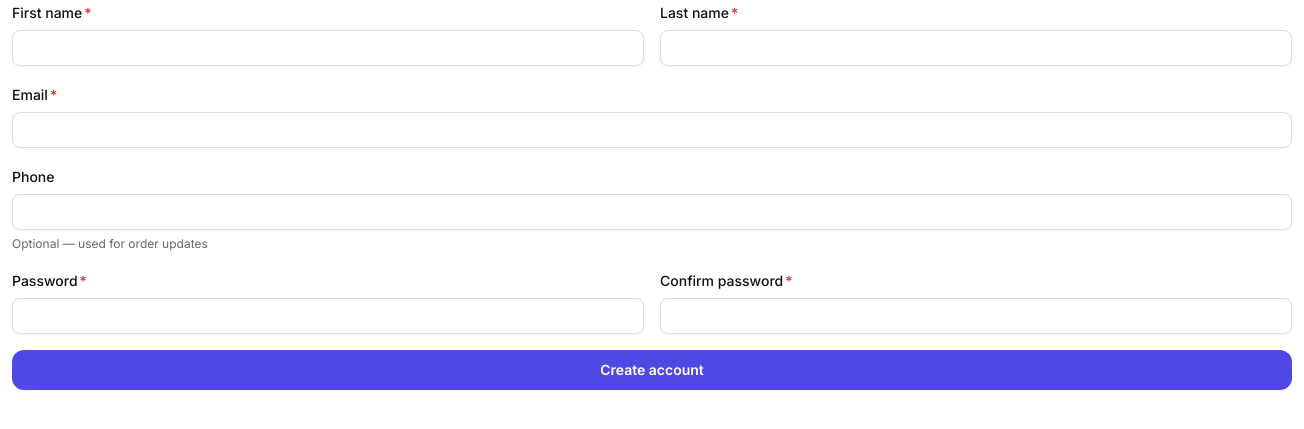
Scenario: RegisterForm › requires matching passwords
This screenshot has width=1304, height=429.
In the field labelled "First name*": coordinates (328, 48) [12, 30, 644, 66], type "Jane"
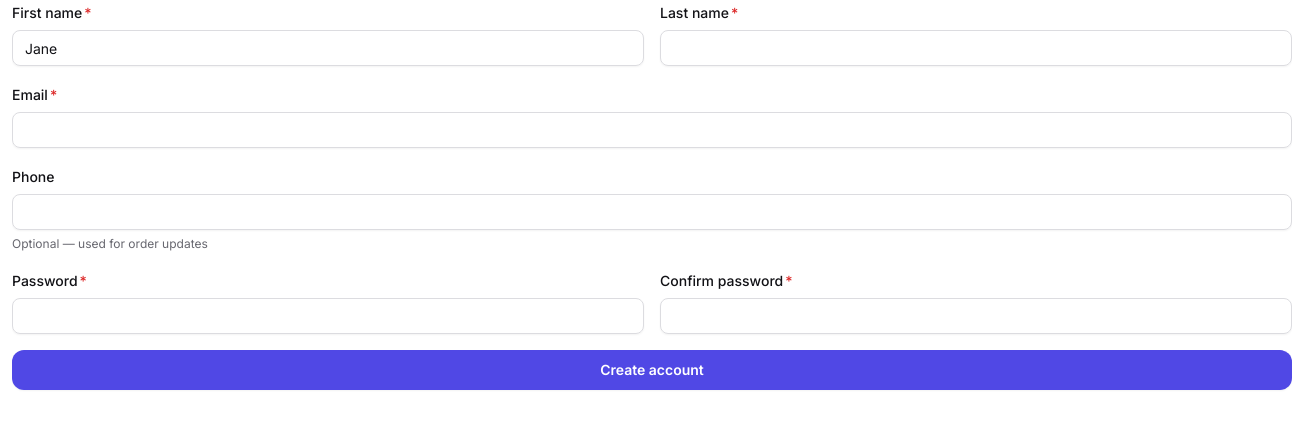
In the field labelled "Last name*": coordinates (976, 48) [660, 30, 1292, 66], type "Doe"
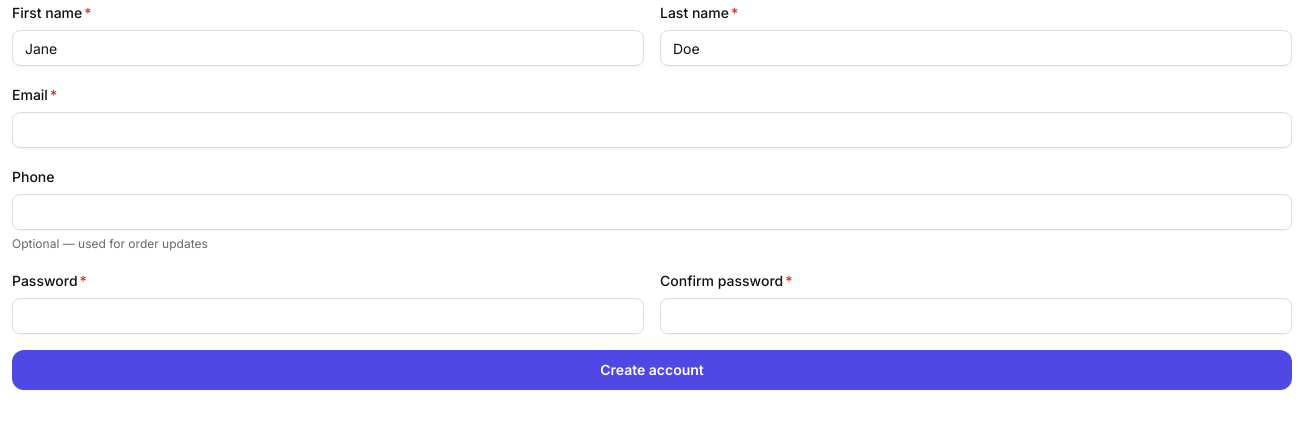
In the field labelled "Email*": coordinates (652, 130) [12, 112, 1292, 148], type "jane@example.com"
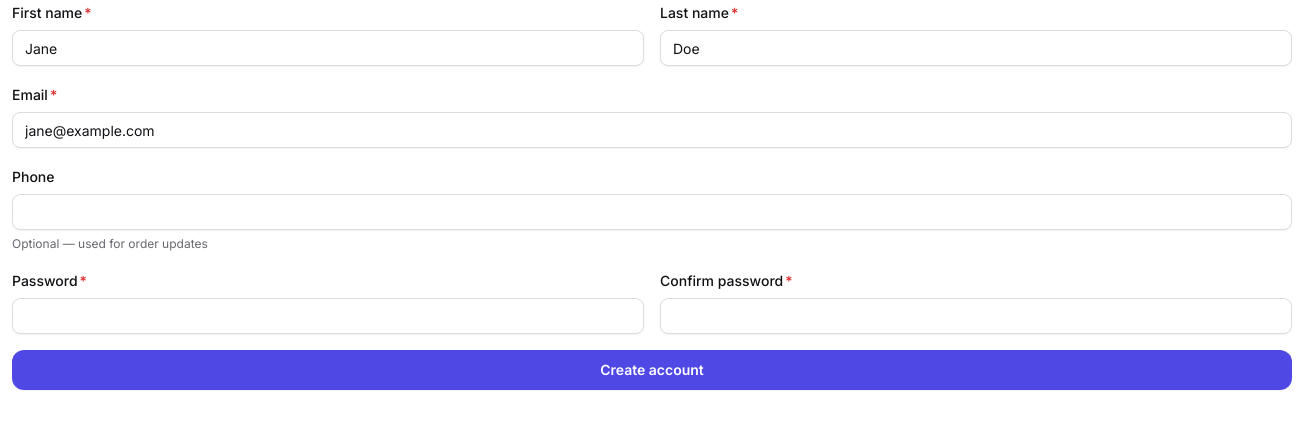
In the password field labelled "Password*": coordinates (328, 316) [12, 298, 644, 334], type "secret123"
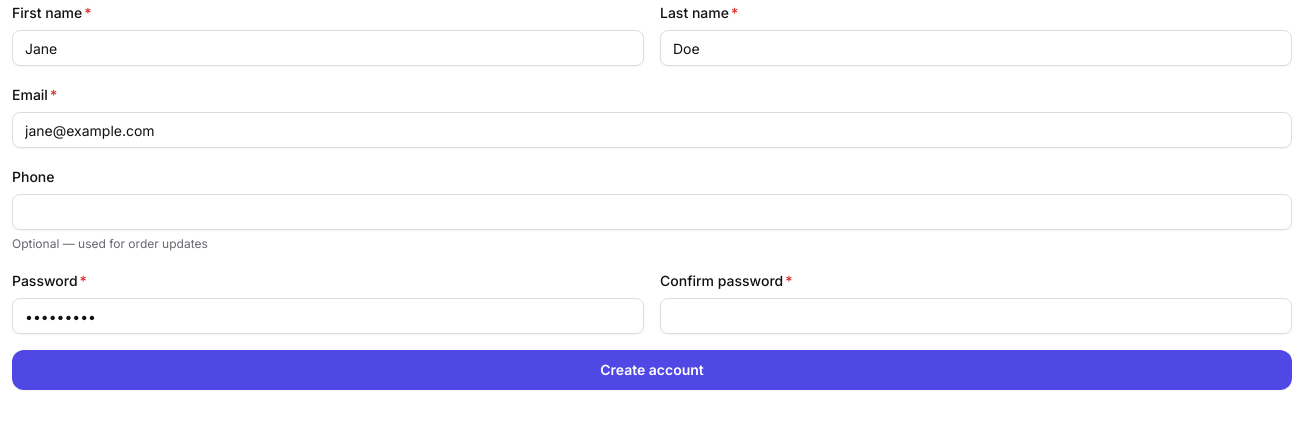
In the password field labelled "Confirm password*": coordinates (976, 316) [660, 298, 1292, 334], type "different"
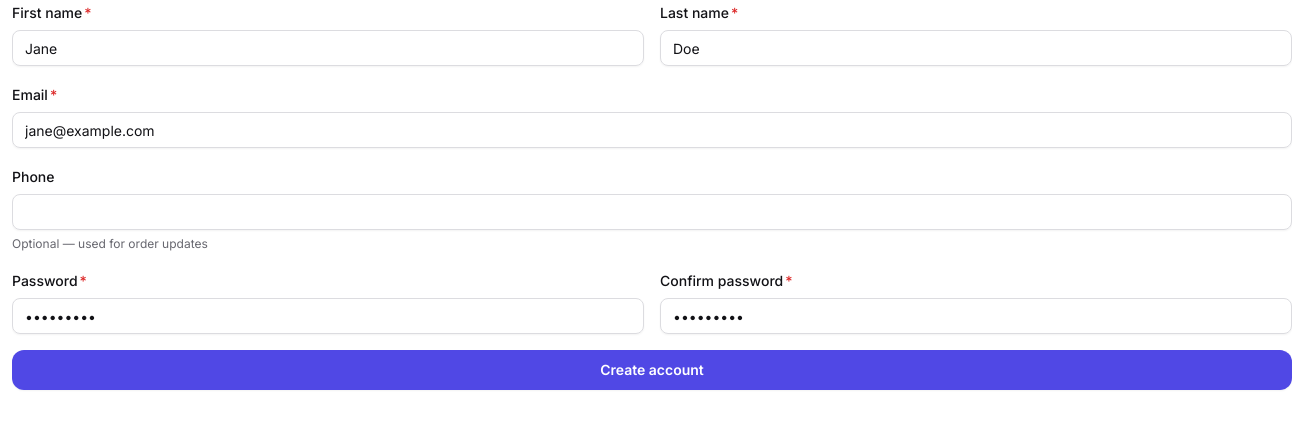
Click the button "Create account": coordinates (652, 370) [12, 350, 1292, 390]
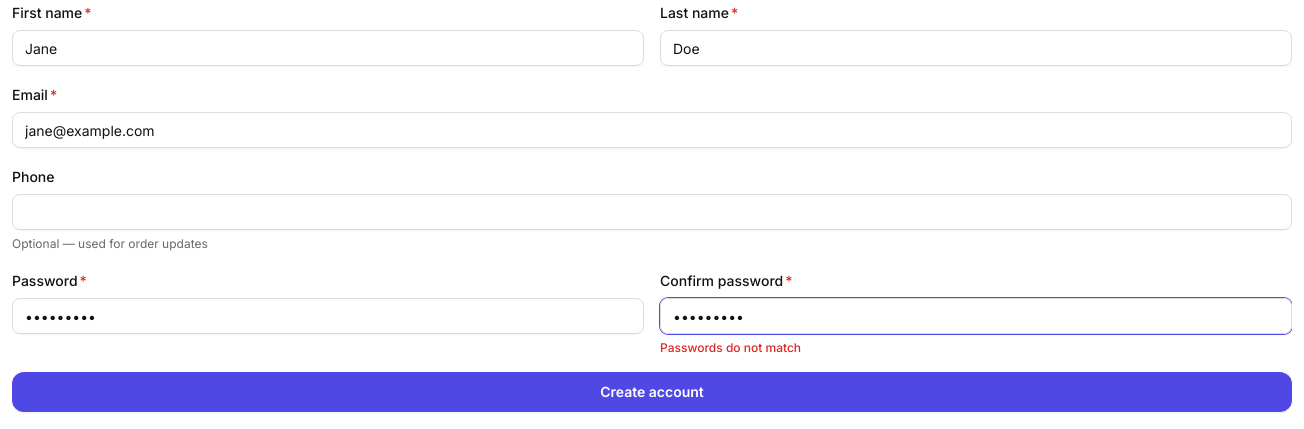
Expected: the text "Passwords do not match" is shown, [660, 340, 801, 355]
